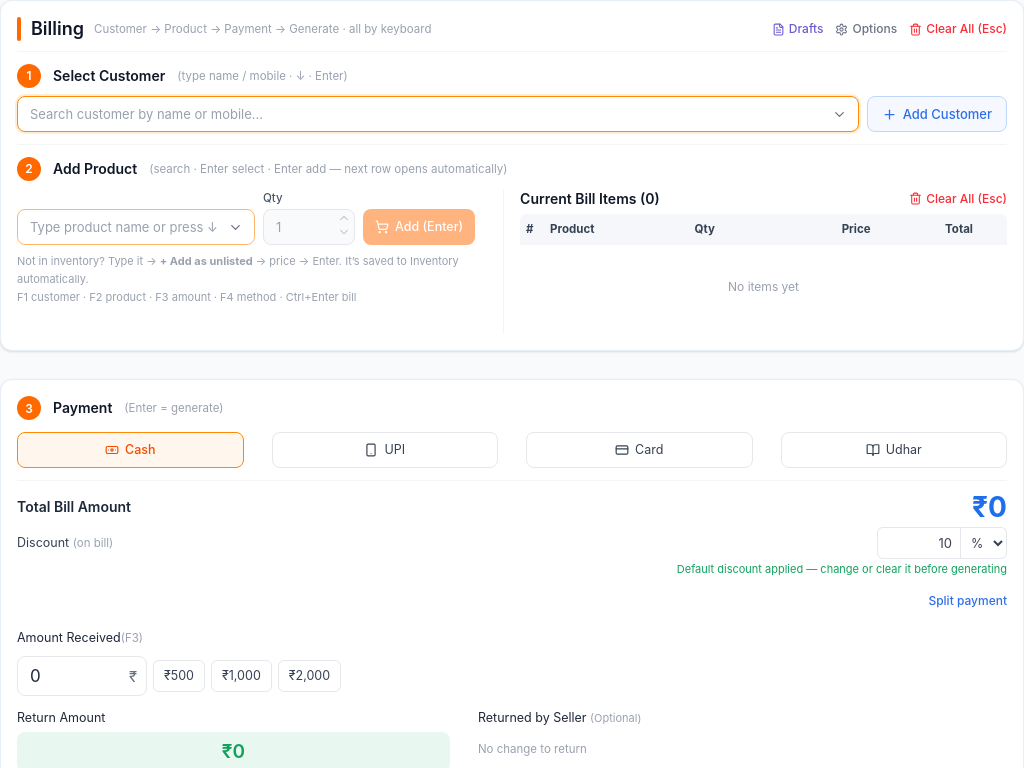
Test: Default discount › pre-fills the ONE bill discount (10% → ₹360), is editable, and is posted once
Type "Asha" into the field labelled "customer" at (438, 114), box [17,96,859,132]
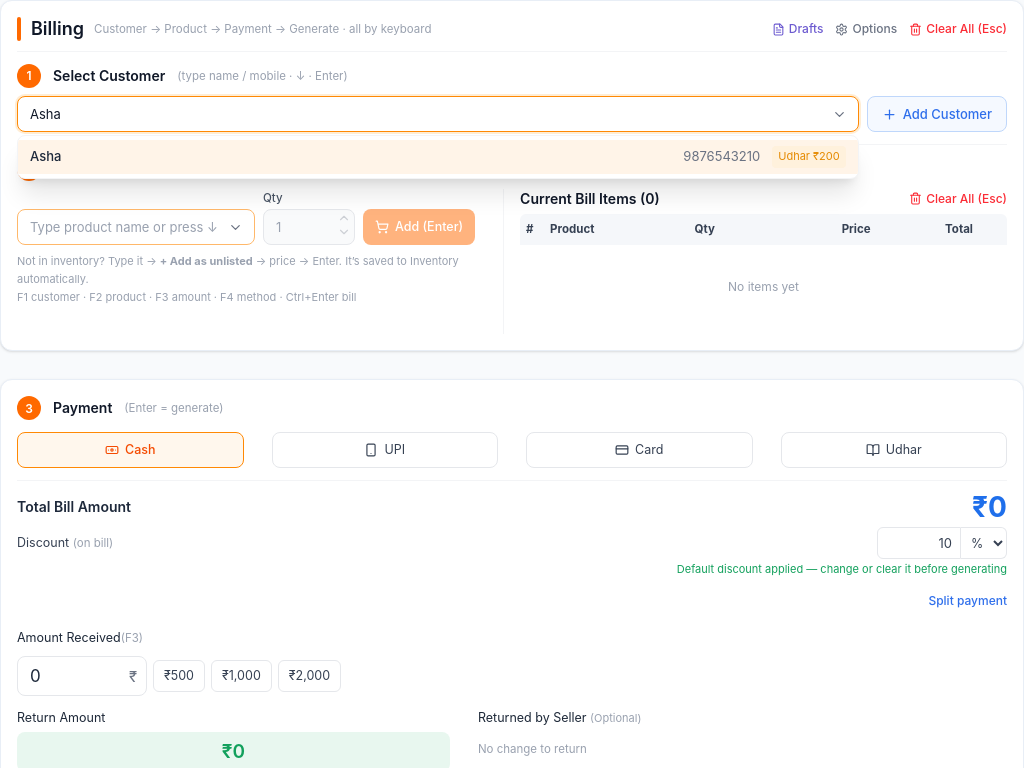
Press the mouse on the option "Asha 9876543210 Udhar ₹200" at (46, 156), box [18,140,858,174]
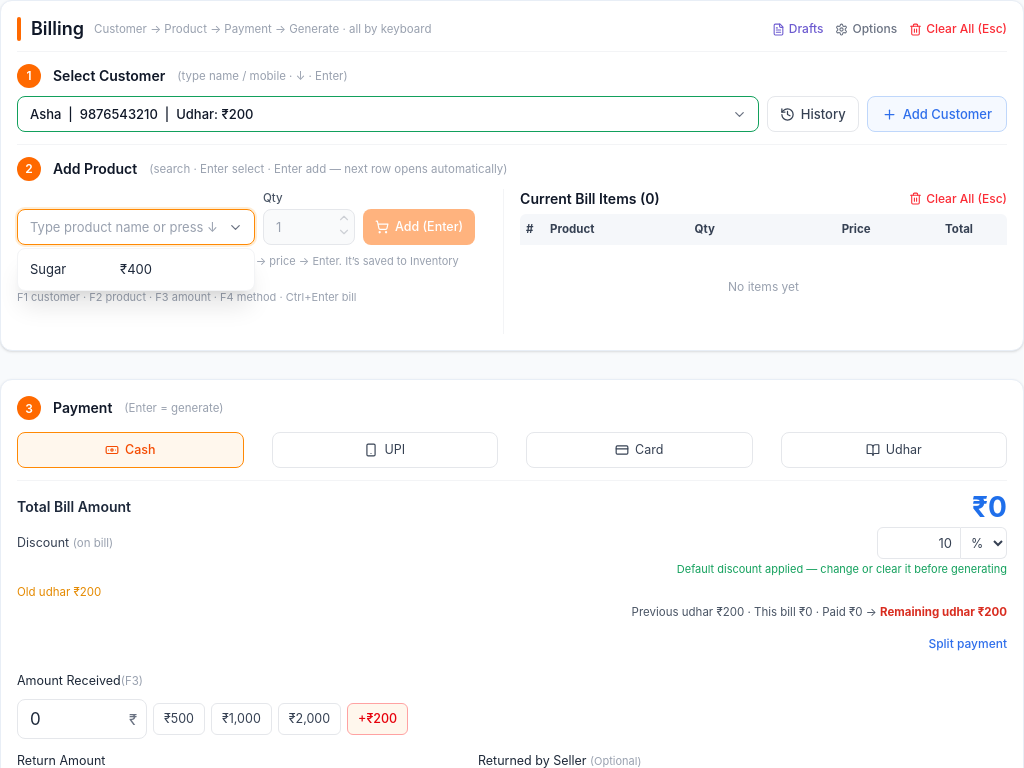
Type "Sugar" into the field labelled "product" at (136, 227), box [17,209,255,245]
Press the mouse on the option "Sugar ₹400" at (136, 270), box [18,253,254,286]
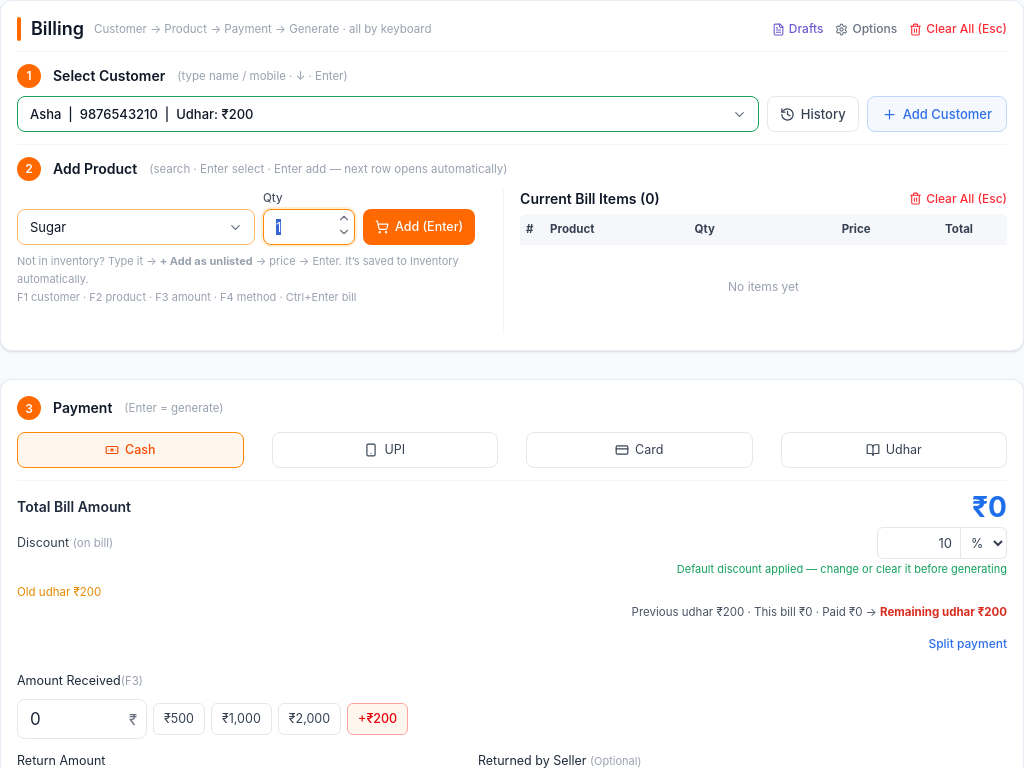
Click the button "Add (Enter)" at (419, 227), box [363,209,475,245]
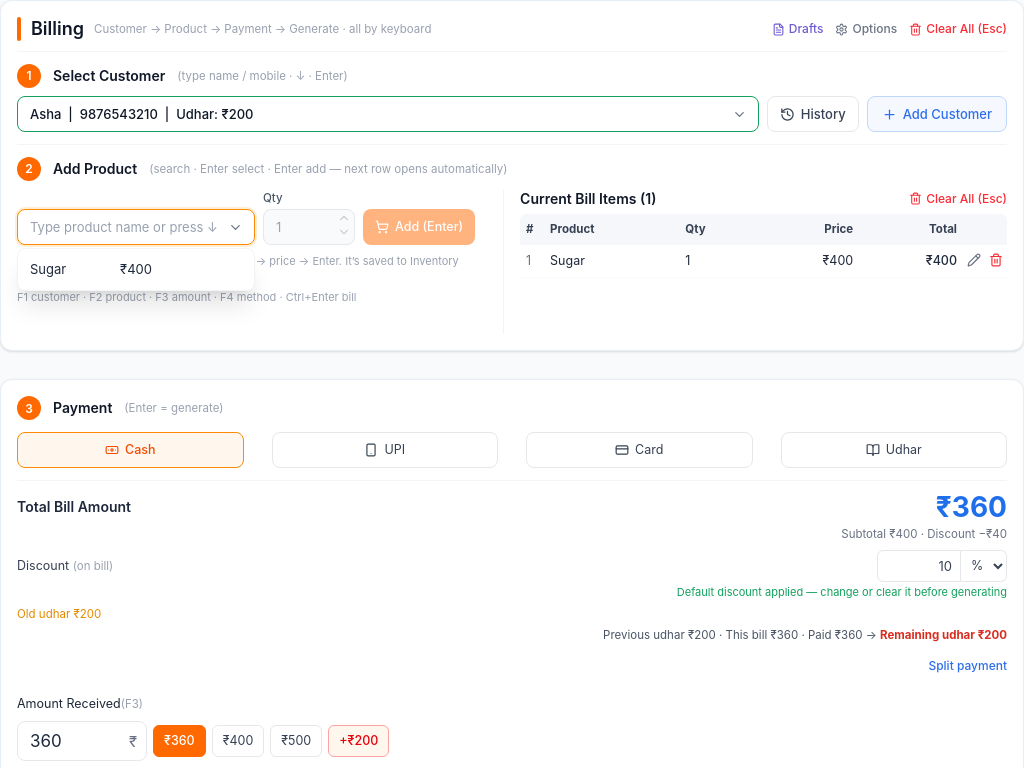
Expected: the dropdown named "Discount type" shows "%", [961,550,1007,582]
Result: the text "₹360" is shown at [936,493,1007,521]
Replace the text in the field with id "bill-discount" with "5" at (919, 566), box [877,550,961,582]
(page scrolled)
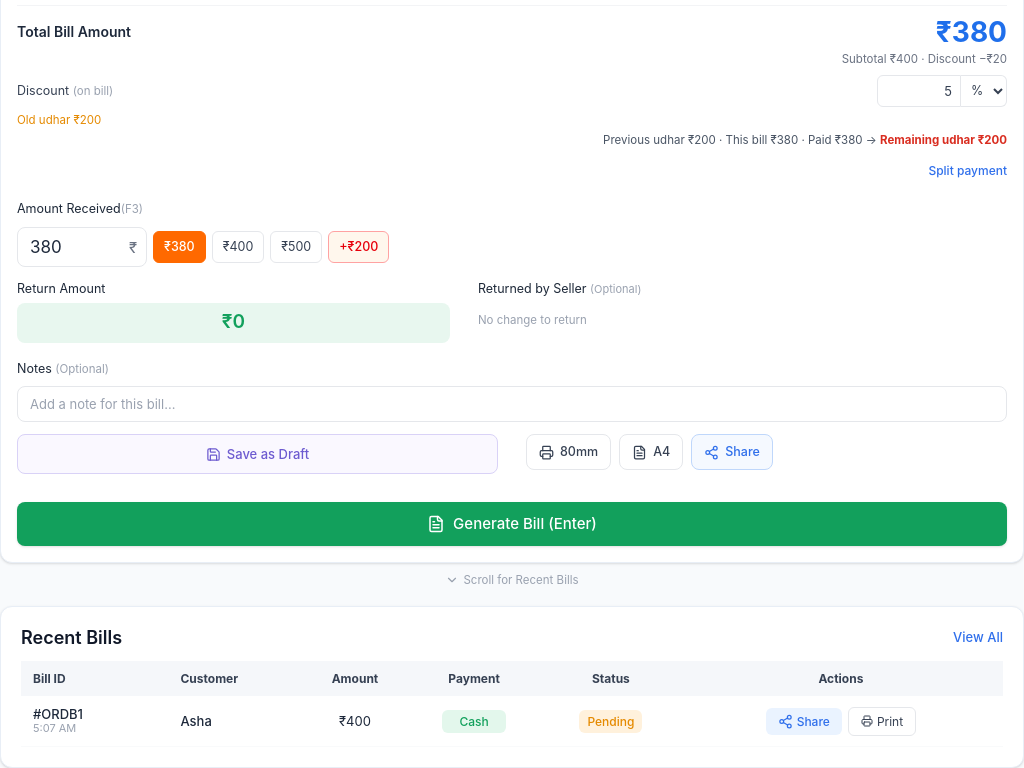
Result: the text "Default discount applied" is gone
Result: the text "₹380" is shown at [936,18,1007,46]
Click the button "Generate Bill (Enter)" at (512, 524), box [17,502,1007,546]
(page scrolled)
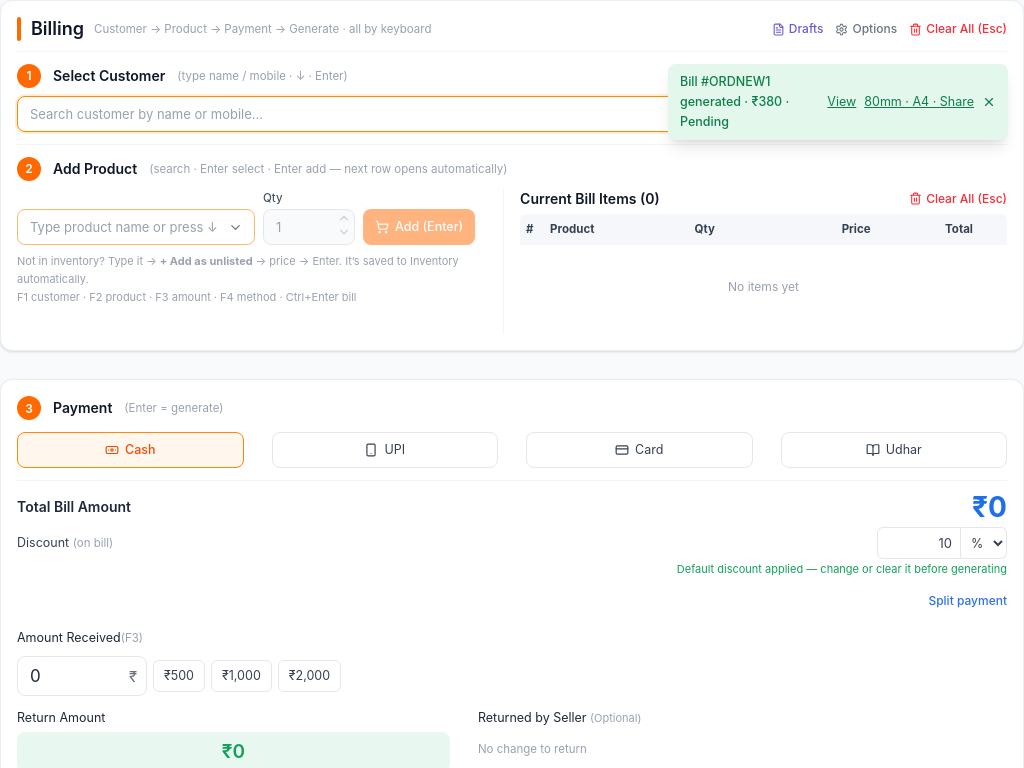
Result: the field with id "bill-discount" holds "10" at [877,527,961,559]
